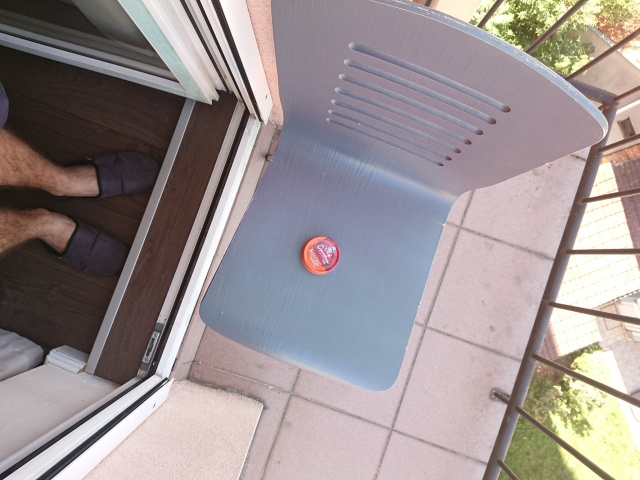Gavrilovic Pork Liver Pate 100g: (299, 233, 340, 275)
